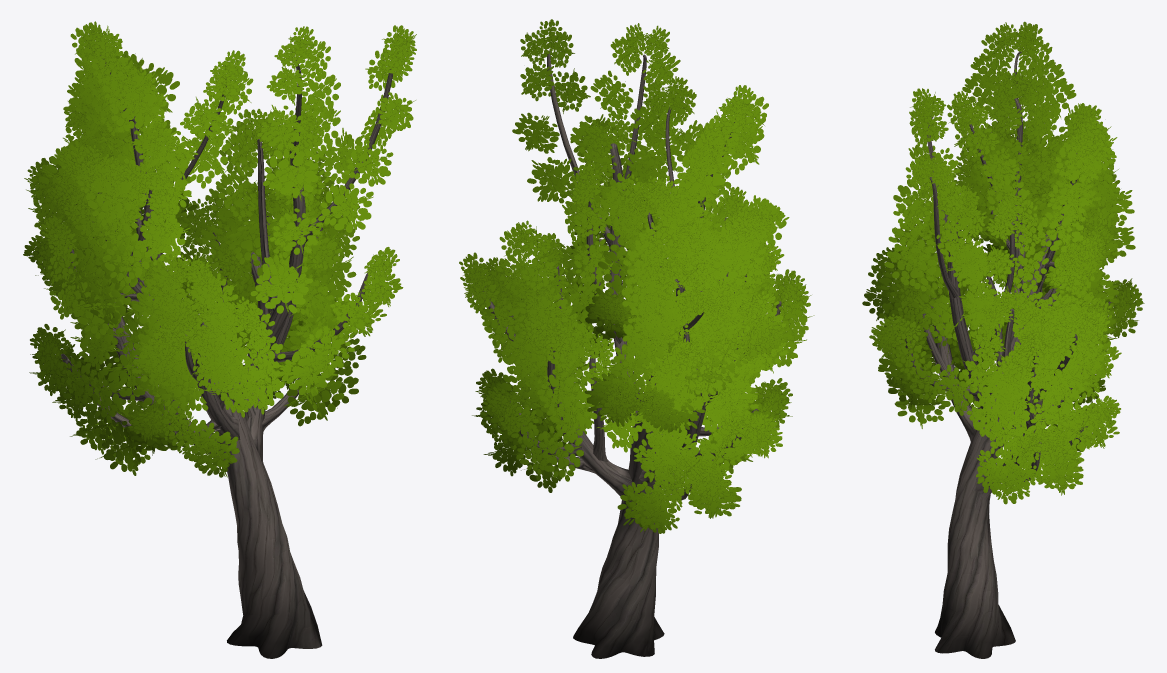
File: TwistedTree_2.gltf
3 renders of one model, left to right at view 1: azimuth 30°, elevation 25°; view 2: azimuth 150°, elevation 25°; view 3: azimuth 270°, elevation 25°, orthographic. The views are drawn at different scales.
Parts seen in each view (by area): view 1: TwistedTree_2; view 2: TwistedTree_2; view 3: TwistedTree_2.
Boxes of the visible parts, x1,y1,x2,y2 form: TwistedTree_2: (23, 21, 416, 658); TwistedTree_2: (459, 19, 814, 658); TwistedTree_2: (862, 21, 1144, 658).
Bounding box in the file's own units: 10.56 × 18.95 × 9.2.
Materials: 2 (2 with a texture image).
